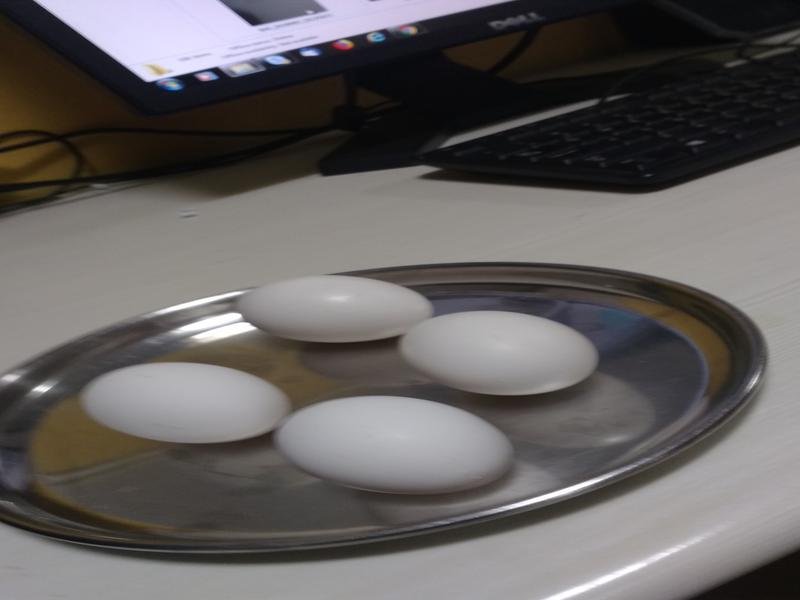egg: (399, 304, 595, 396)
